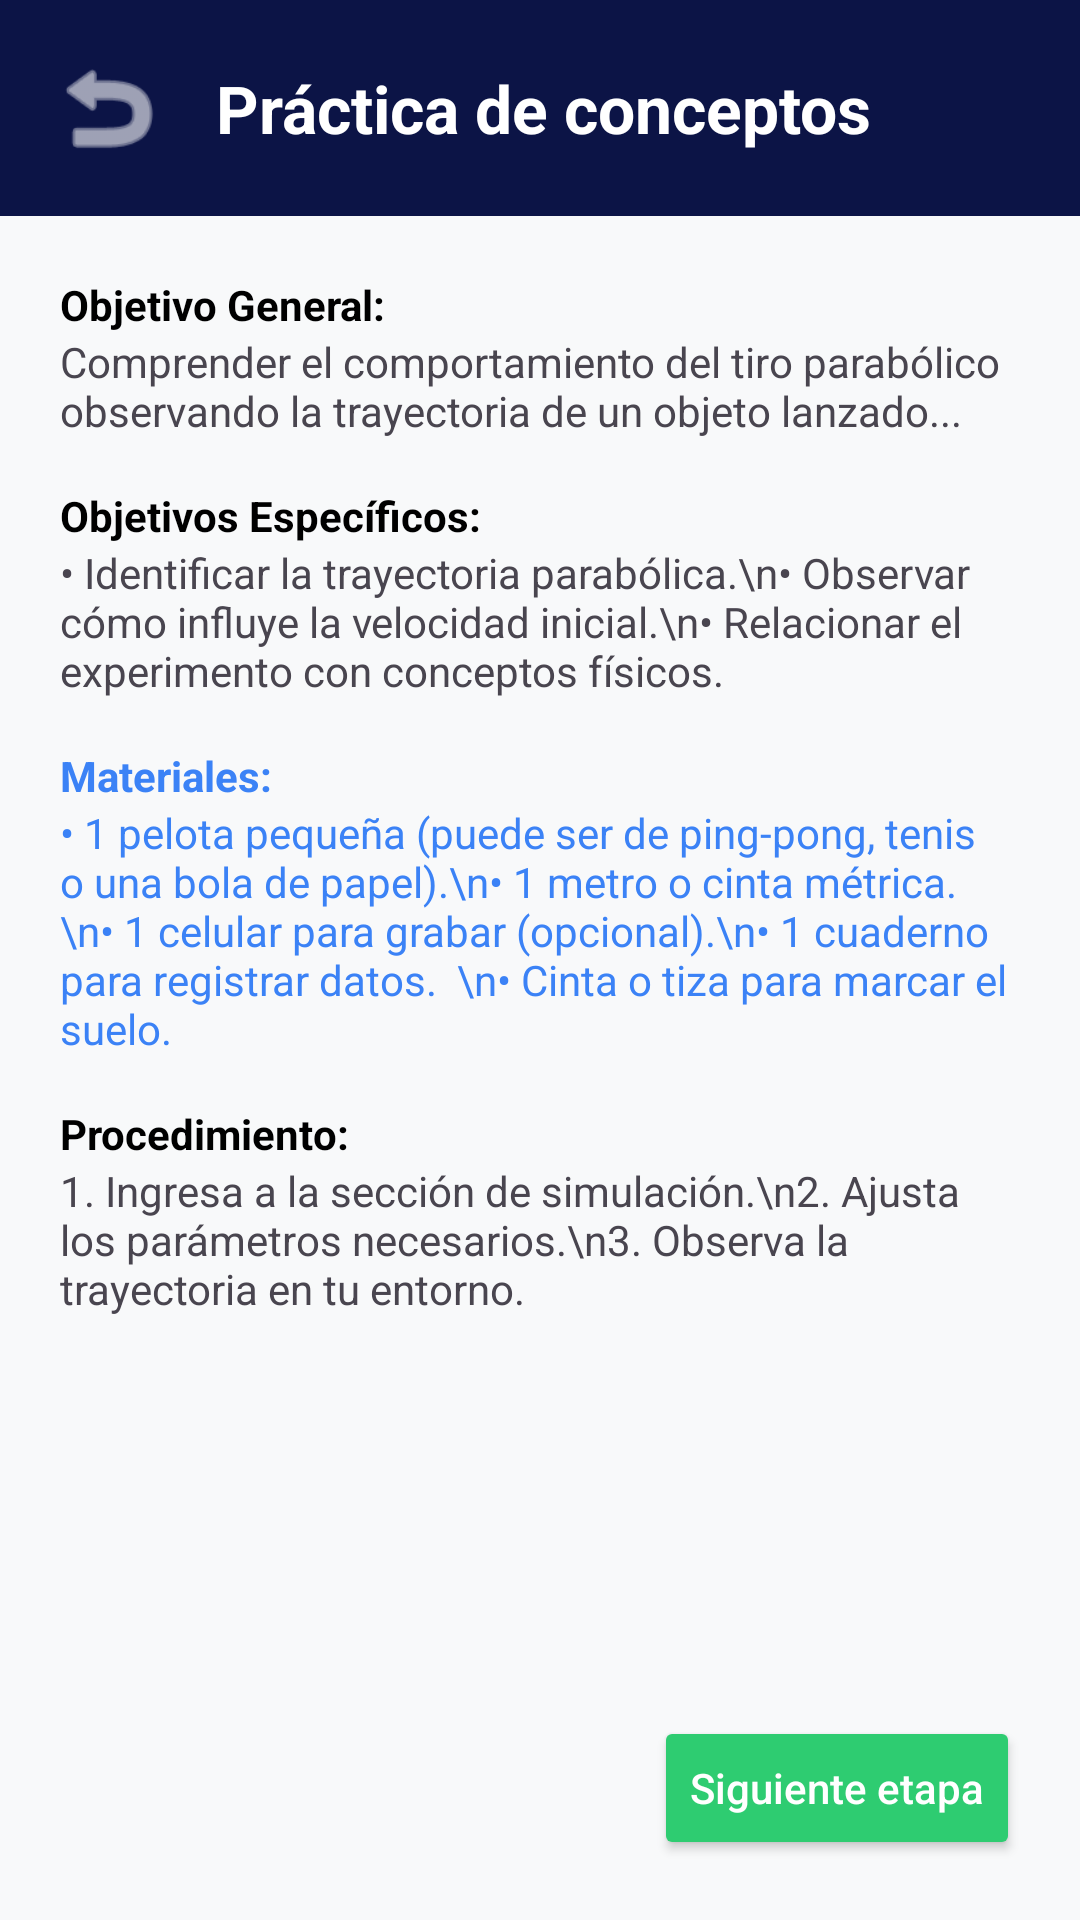

Screen size 1080w x 1920h. Icon name, then its center in pixels as [x,y]:
revert: [109,109]
